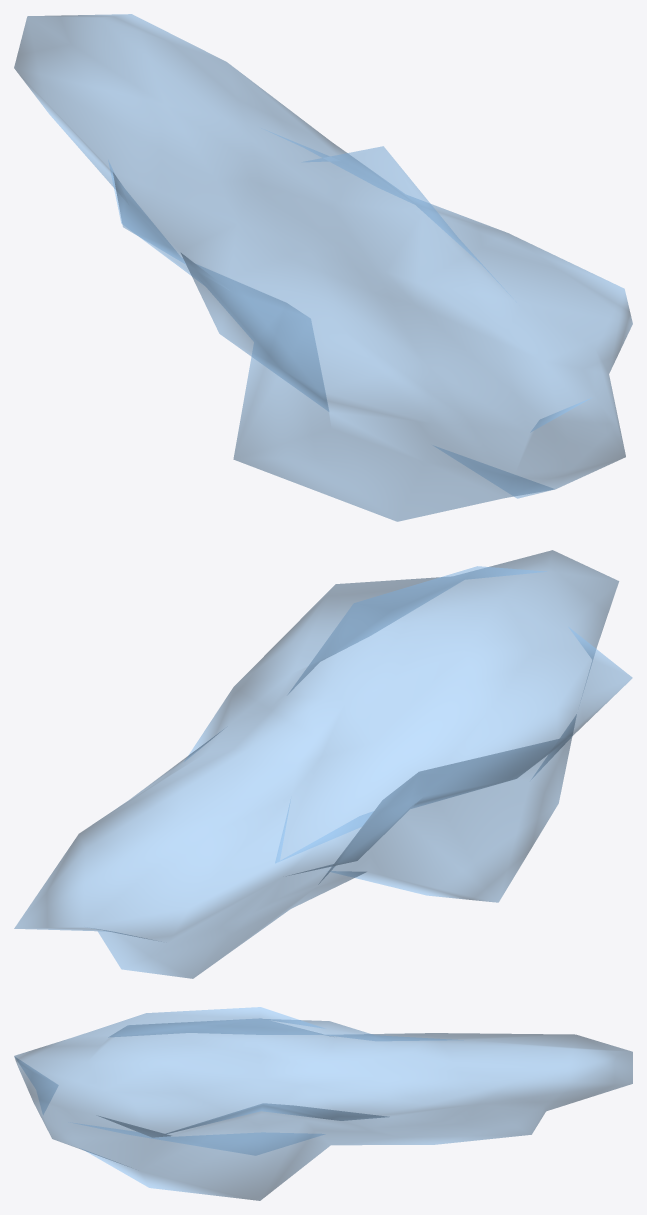
The model's file is tmidas_shield.gltf.
3 views of the same model, one above another, from view 1: azimuth 30°, elevation 25°; view 2: azimuth 150°, elevation 25°; view 3: azimuth 270°, elevation 25° (orthographic). The views are drawn at different scales.
Parts seen in each view (by area): view 1: tmidas.shield; view 2: tmidas.shield; view 3: tmidas.shield.
Boxes of the visible parts, x1,y1,x2,y2 form: tmidas.shield: (14, 14, 632, 521); tmidas.shield: (14, 550, 632, 978); tmidas.shield: (14, 1007, 632, 1200).
Bounding box in the file's own units: 10.19 × 8.52 × 28.04.
